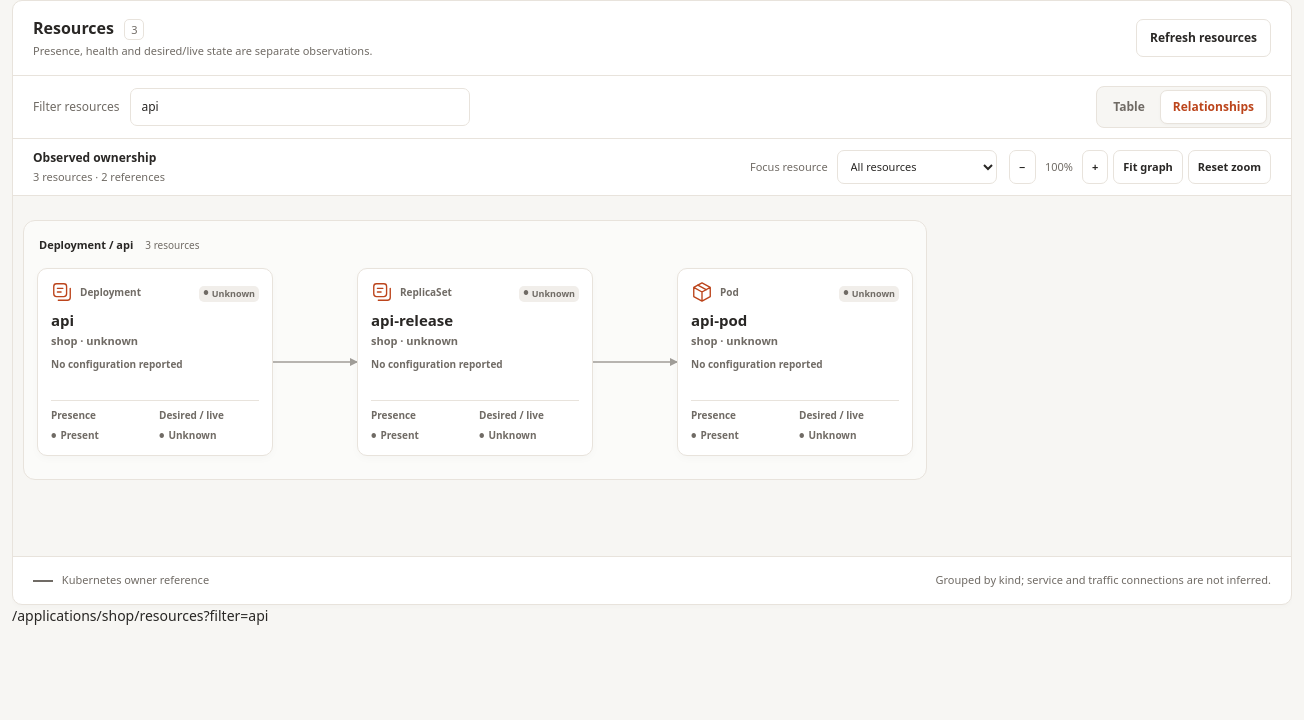
Test: resource context and evidence › allows an overview graph default while keeping an explicit table choice in the address
The width and height of the screenshot is (1304, 720).
Expected: the text "Observed ownership" is shown, 33,148 -> 156,166
Click the button "Table". click: click(1129, 106)
box: 1100,90 -> 1158,124
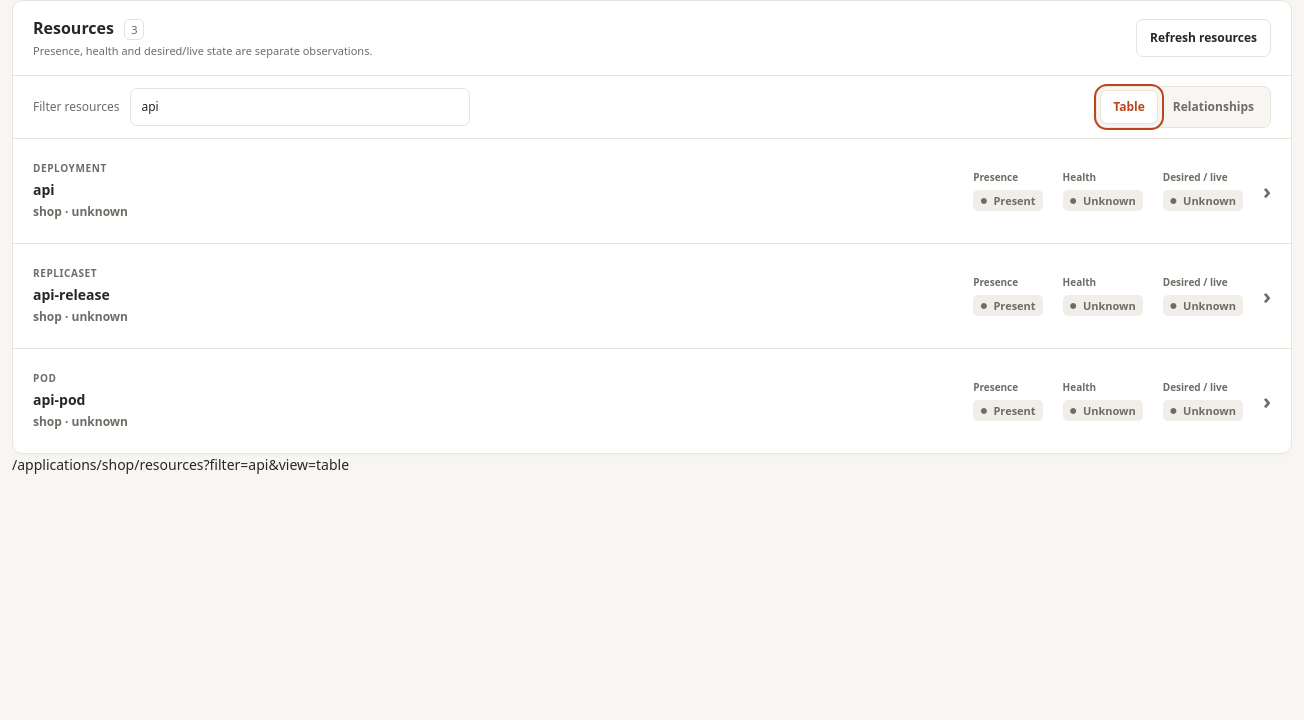
Expected: the text "api" is shown, 33,180 -> 55,198
Expected: the text "Observed ownership" is gone
Click the button "Relationships". click: click(1213, 106)
box: 1160,90 -> 1267,124
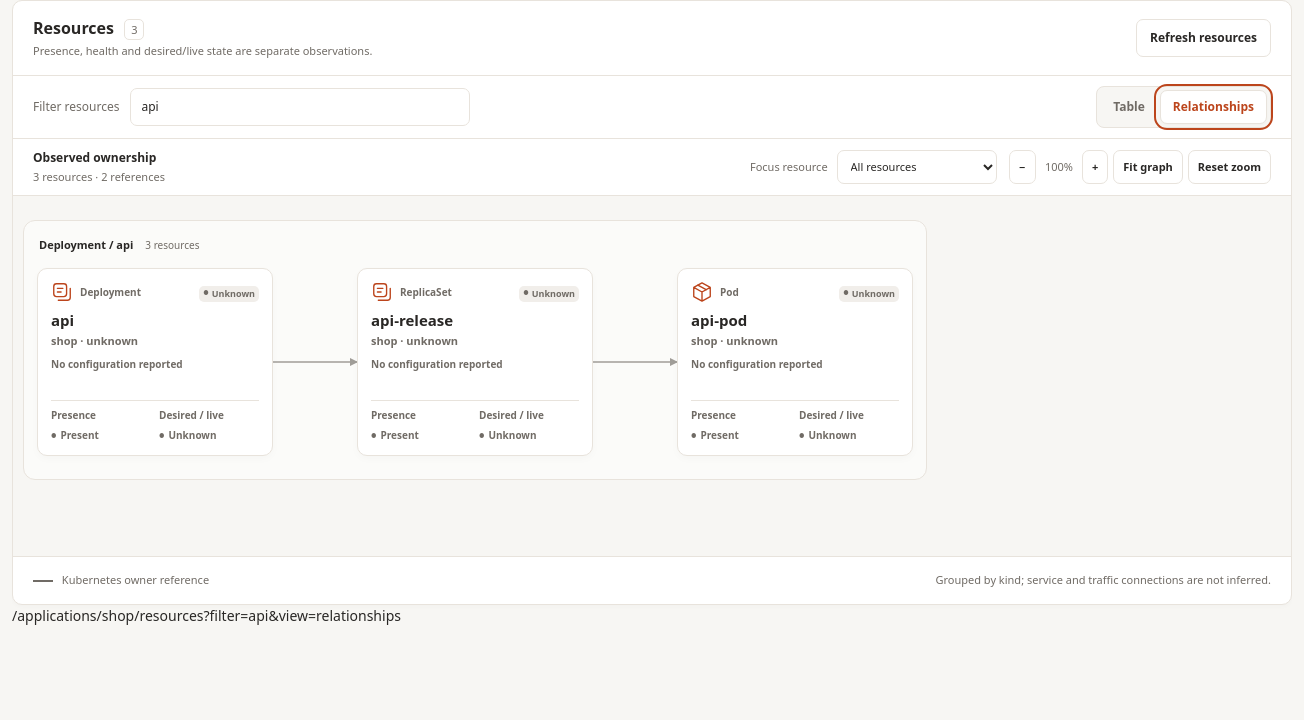
Expected: the text "Observed ownership" is shown, 33,148 -> 156,166
